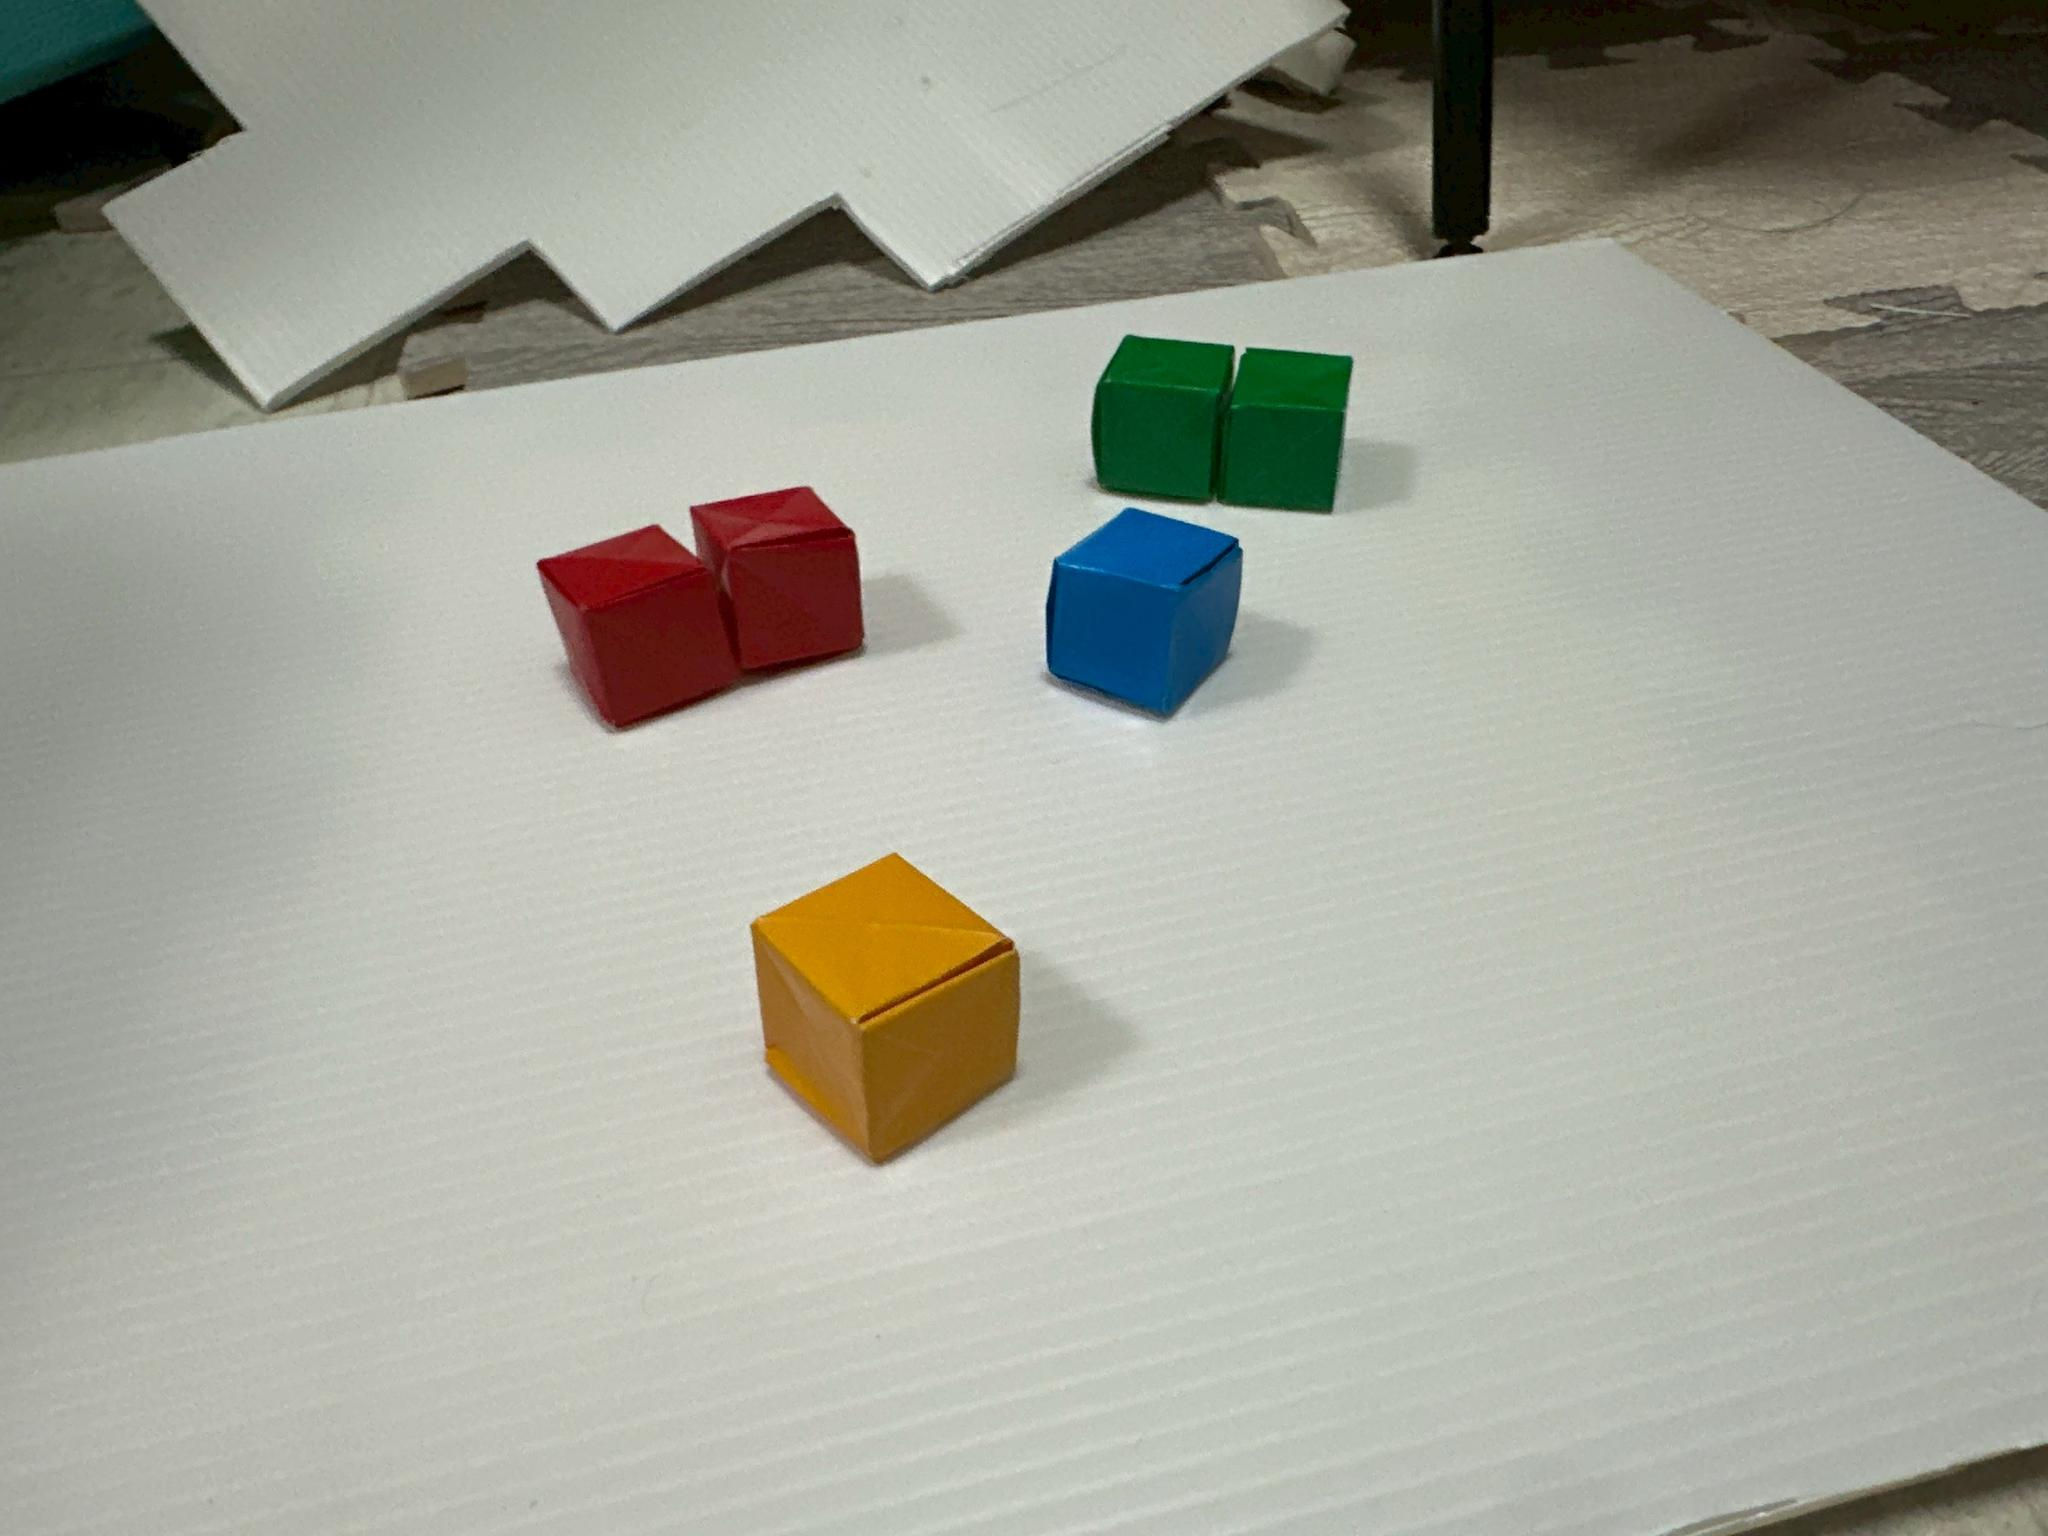cube: (750, 854, 1019, 1163), (539, 526, 742, 729), (1047, 508, 1242, 718), (692, 487, 863, 673), (1092, 336, 1234, 502), (1218, 350, 1350, 513)
